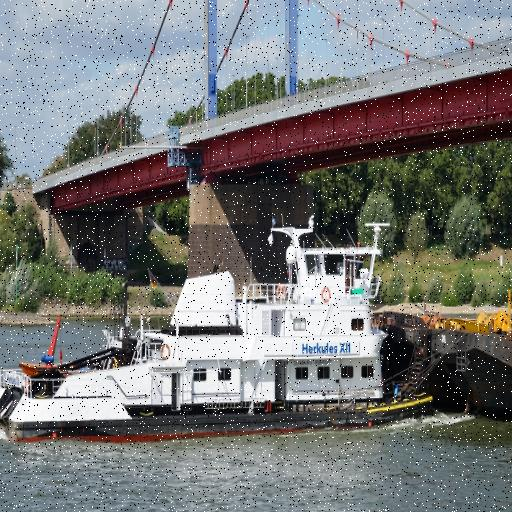tugboat: (1, 210, 446, 454)
